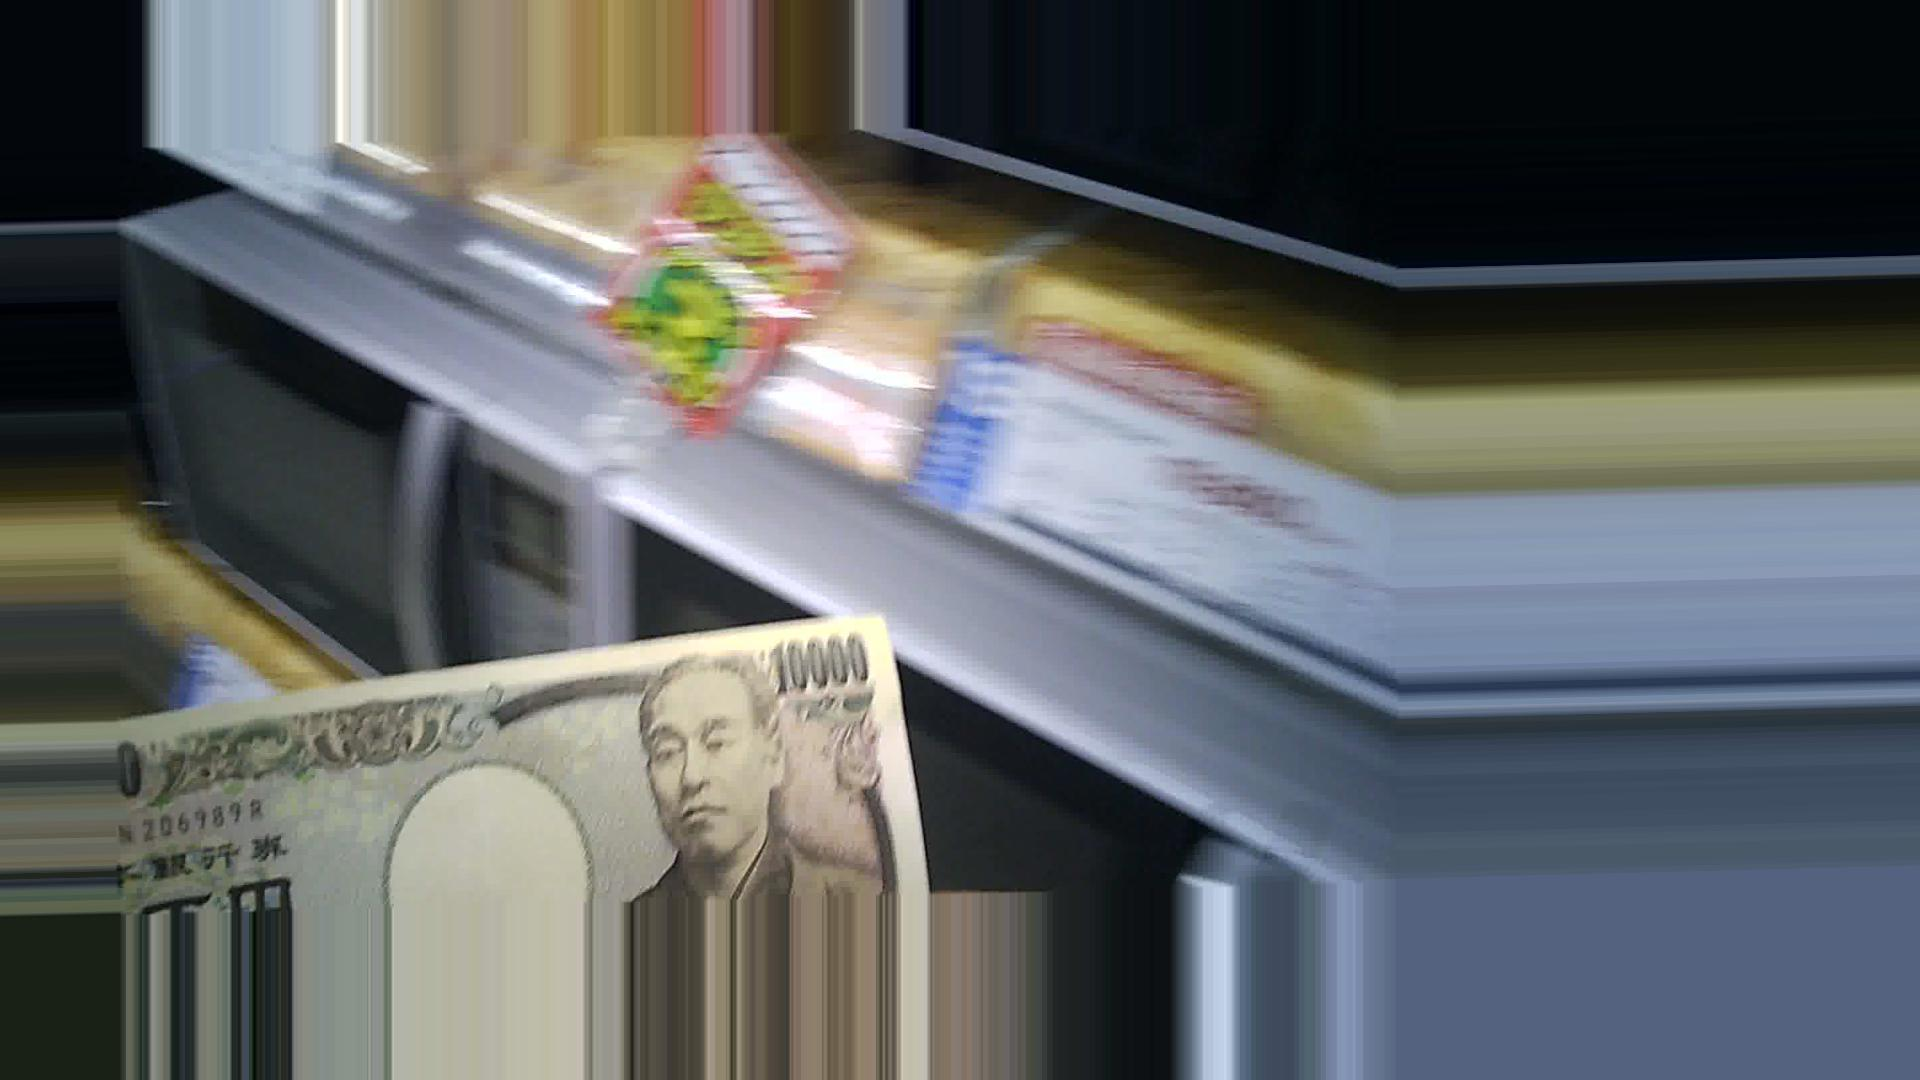10,000 Yen: (95, 616, 938, 891)
